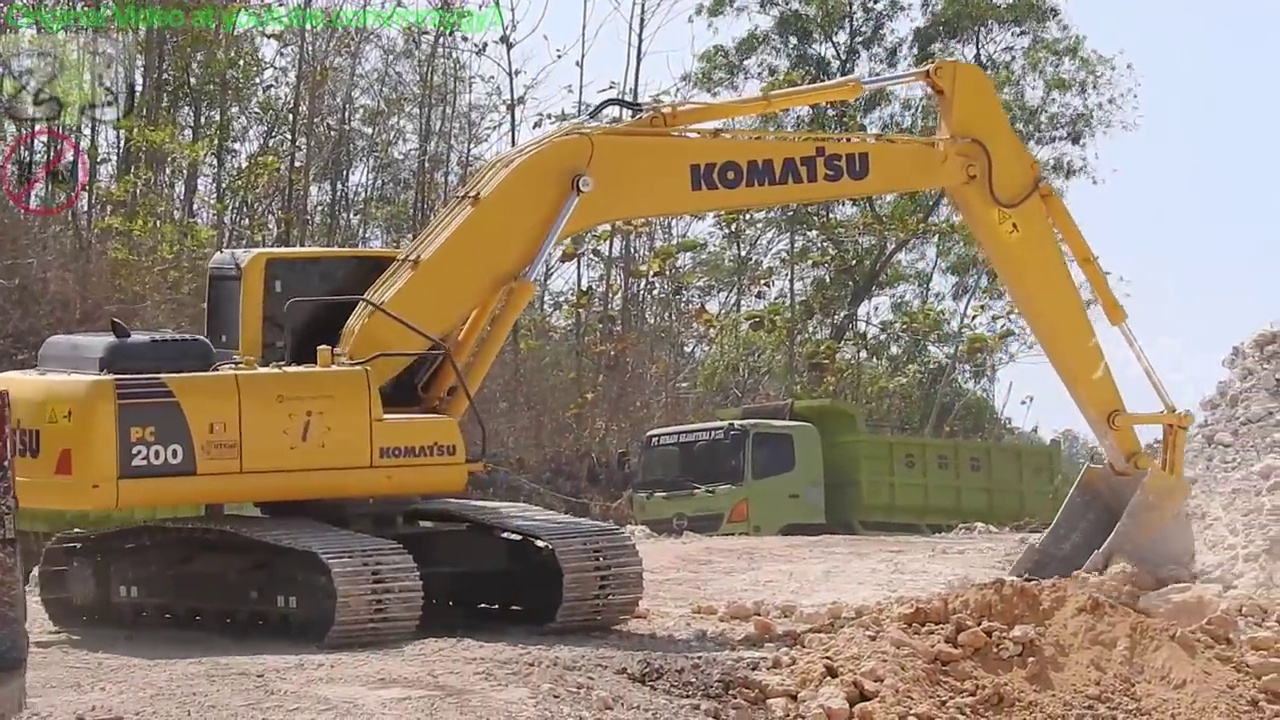excavator: (1, 54, 1209, 664)
truck: (613, 390, 1069, 589)
